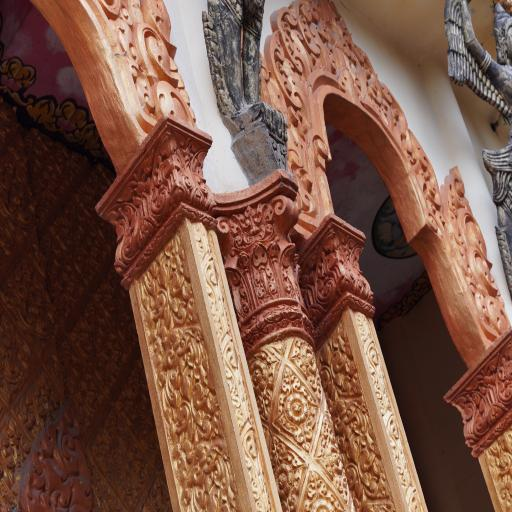hoa: (285, 392, 309, 424), (247, 356, 268, 390), (274, 464, 293, 498), (325, 441, 344, 475), (300, 342, 318, 376), (312, 497, 336, 512)
la: (145, 333, 242, 474), (134, 230, 209, 350), (439, 160, 505, 296), (100, 148, 182, 248), (448, 342, 512, 442), (174, 443, 244, 512), (193, 219, 233, 337), (167, 126, 217, 218), (302, 230, 343, 321), (220, 330, 258, 427), (332, 220, 374, 306), (344, 19, 384, 109), (266, 26, 305, 114), (134, 20, 185, 86), (241, 420, 273, 512), (406, 124, 440, 210), (275, 0, 310, 82), (213, 206, 284, 246), (294, 0, 328, 80), (318, 20, 359, 86), (138, 1, 185, 54), (0, 48, 37, 112), (247, 238, 281, 306), (222, 250, 253, 323), (382, 78, 411, 153), (110, 16, 142, 82), (154, 78, 193, 130), (280, 238, 305, 304), (26, 86, 57, 132), (280, 443, 308, 493), (56, 94, 82, 144), (131, 64, 155, 115), (257, 344, 281, 386), (82, 118, 106, 159), (313, 432, 332, 480), (290, 422, 316, 452), (279, 365, 304, 395), (306, 383, 322, 427), (304, 470, 328, 498), (316, 412, 337, 442), (332, 469, 350, 502), (255, 388, 273, 421), (308, 0, 324, 28), (275, 395, 286, 433)
than: (441, 0, 512, 313), (197, 0, 295, 185)
